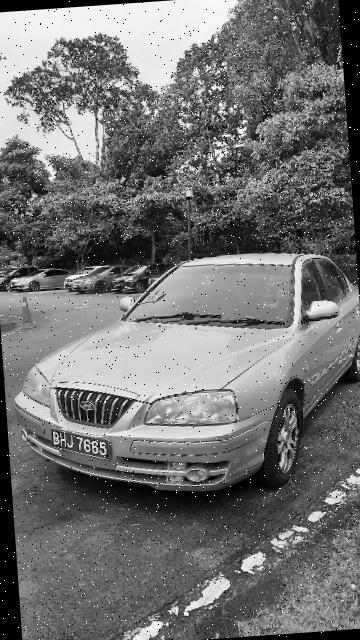License_Plate: (52, 426, 112, 466)
car: (7, 243, 360, 510)
